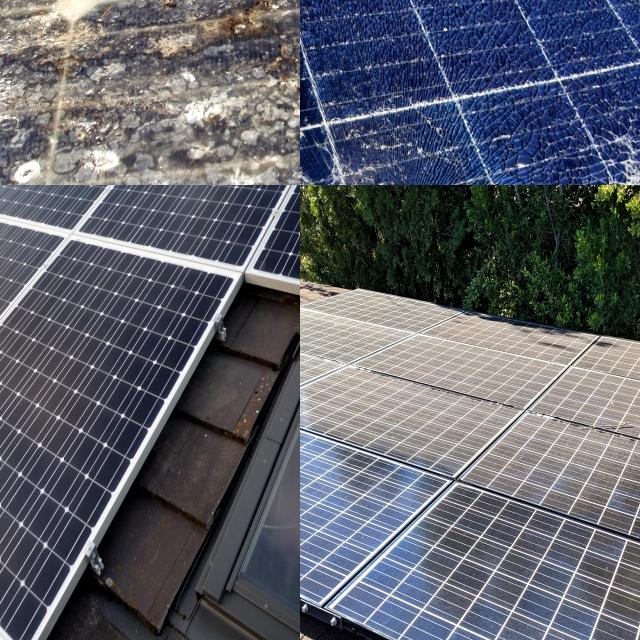bird: (121, 0, 300, 86), (157, 0, 300, 29)
crack: (0, 270, 241, 640), (0, 204, 146, 476), (61, 185, 300, 286)
dust: (322, 365, 496, 488), (513, 394, 633, 524), (324, 294, 469, 344), (489, 326, 596, 380), (300, 322, 359, 417)
hotspot: (583, 103, 640, 185)
